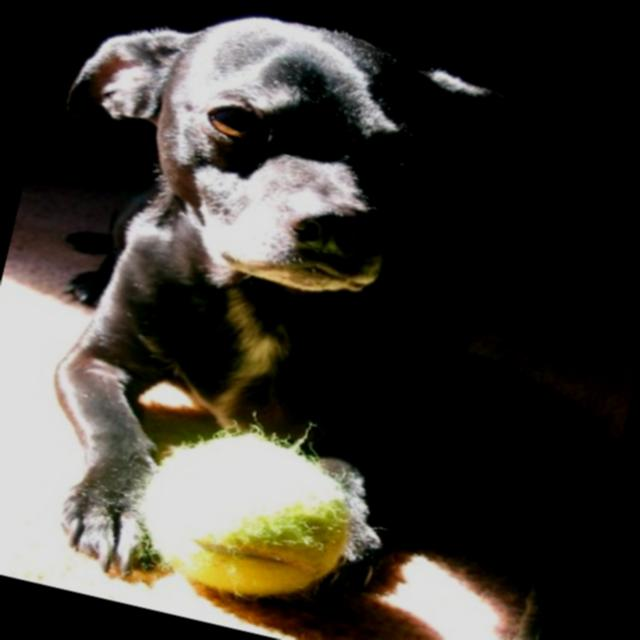Tennis ball: (124, 391, 384, 624)
